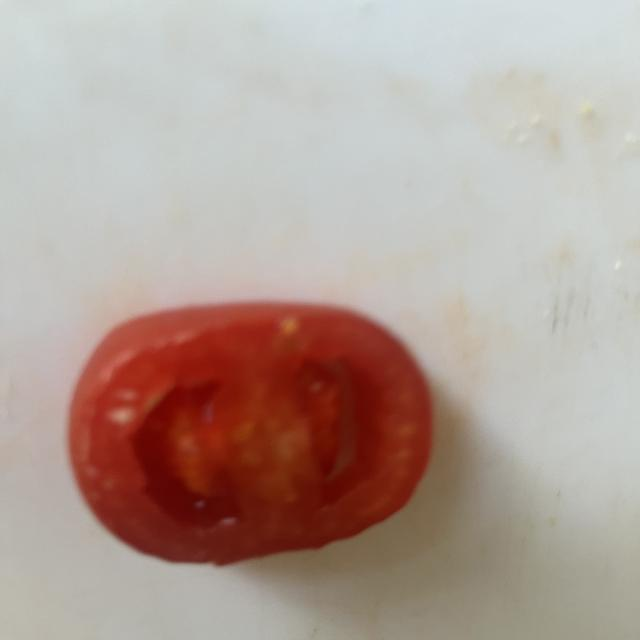sliced_tomato: (69, 303, 432, 565)
